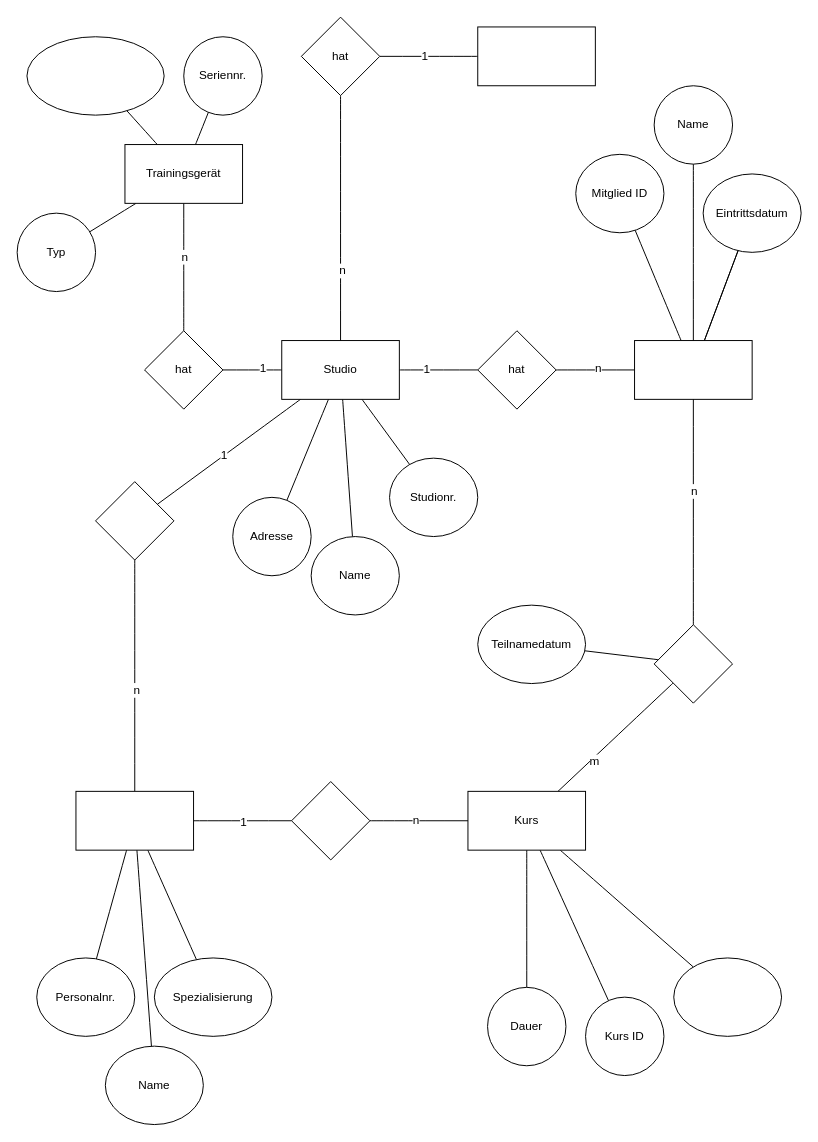
The diagram is 818 pixels wide and 1142 high, and some of its shapes have lost their labels. The shapes that lost their labels are listed below. From the top down, each one's box as (x1, y1, x2, y2) in pixels, then its label:
(26, 36, 164, 115): Anschaffungsdatum
(477, 26, 595, 86): Fitnesstudio-Unternehmen
(634, 340, 752, 399): Mitglied
(95, 481, 174, 560): arbeitet
(653, 624, 733, 703): besucht
(75, 790, 194, 850): Trainer
(291, 781, 370, 860): leitet
(673, 957, 782, 1036): Bezeichnung
